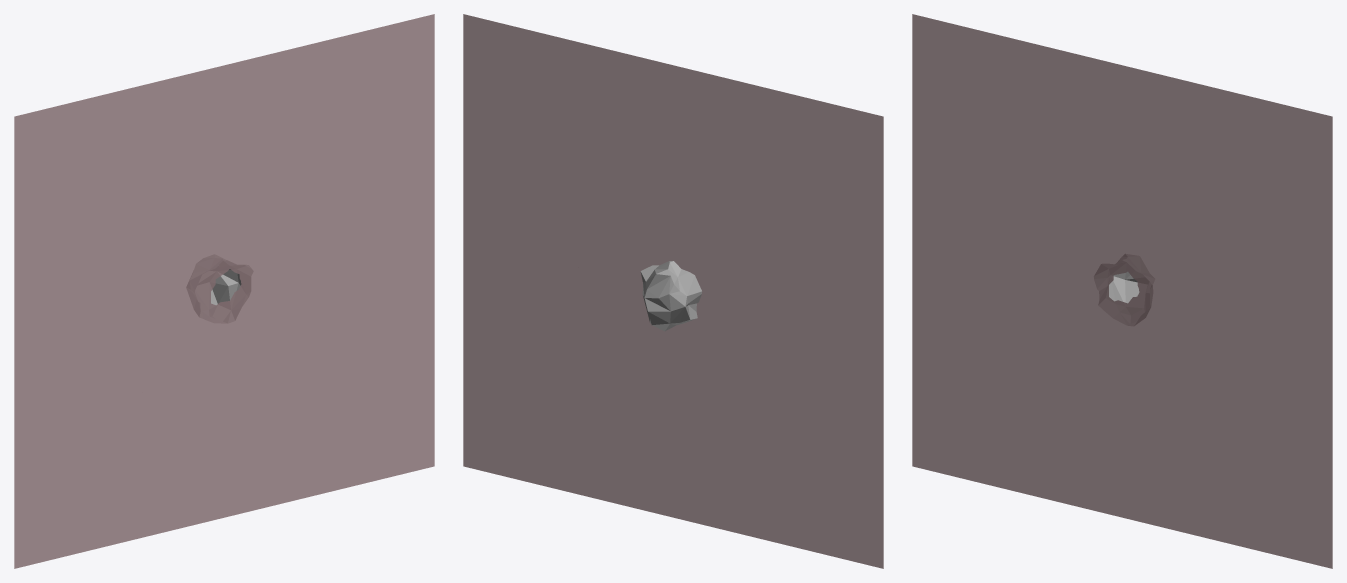
File: Background.fbx
3 renders of one model, left to right at view 1: azimuth 30°, elevation 25°; view 2: azimuth 150°, elevation 25°; view 3: azimuth 330°, elevation 25°, orthographic.
Visible parts, largest first — view 1: A_Occluder_GEO, B_Enviro_GEO; view 2: A_Occluder_GEO, B_Enviro_GEO; view 3: A_Occluder_GEO, B_Enviro_GEO.
Boxes of the visible parts, x1,y1,x2,y2 form: A_Occluder_GEO: [14, 14, 434, 568]; B_Enviro_GEO: [187, 255, 252, 322]; A_Occluder_GEO: [463, 14, 883, 568]; B_Enviro_GEO: [640, 261, 702, 331]; A_Occluder_GEO: [912, 14, 1332, 568]; B_Enviro_GEO: [1094, 254, 1154, 325].
Bounding box in the file's own units: 309 × 318 × 25.74.
